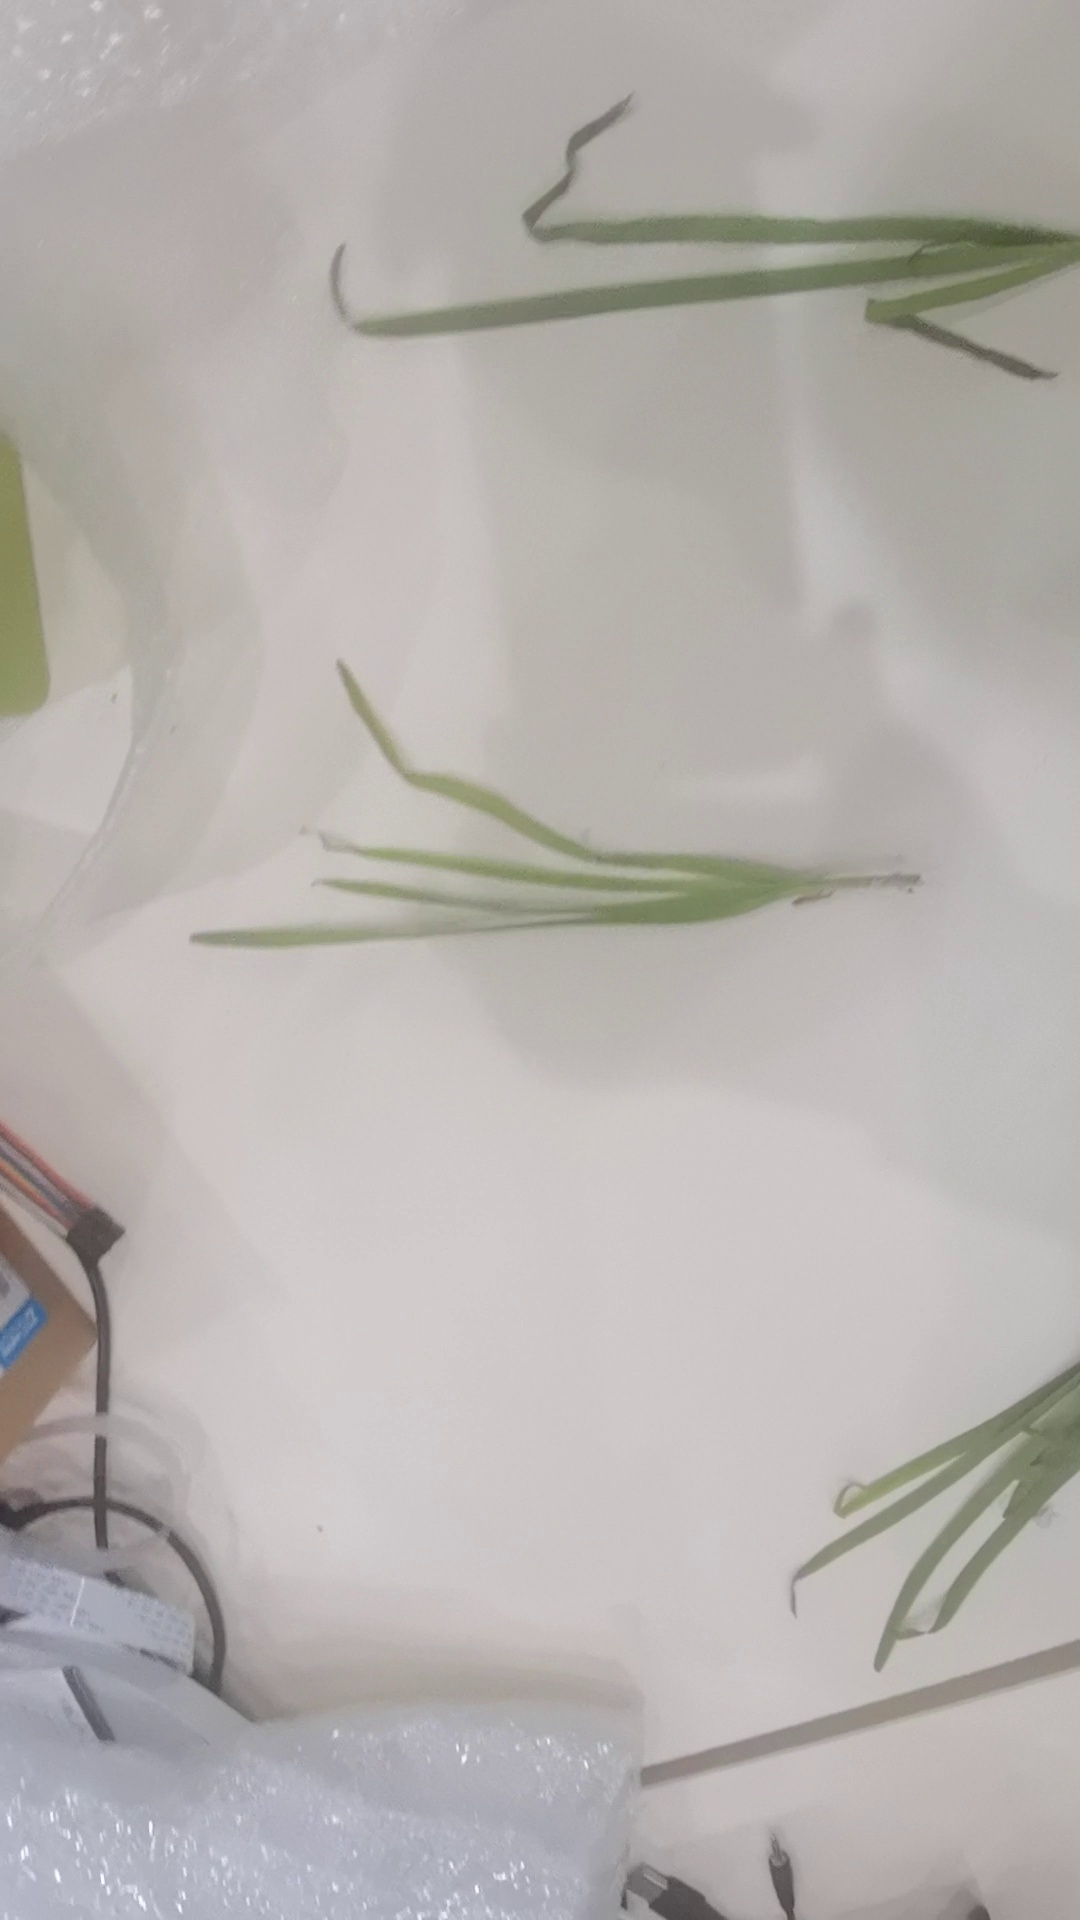chives: (177, 653, 926, 949), (330, 92, 1080, 382)
